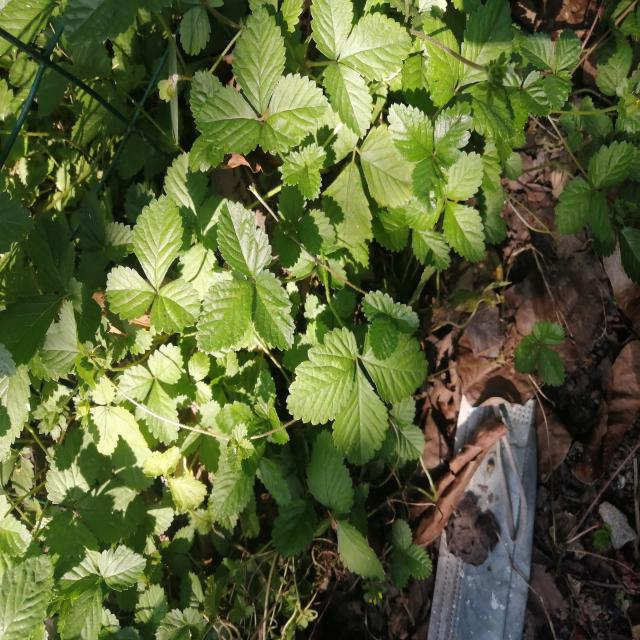Mock_strawberry: (189, 16, 331, 180), (353, 92, 491, 246), (295, 305, 428, 464), (208, 202, 304, 359), (119, 188, 201, 320)
